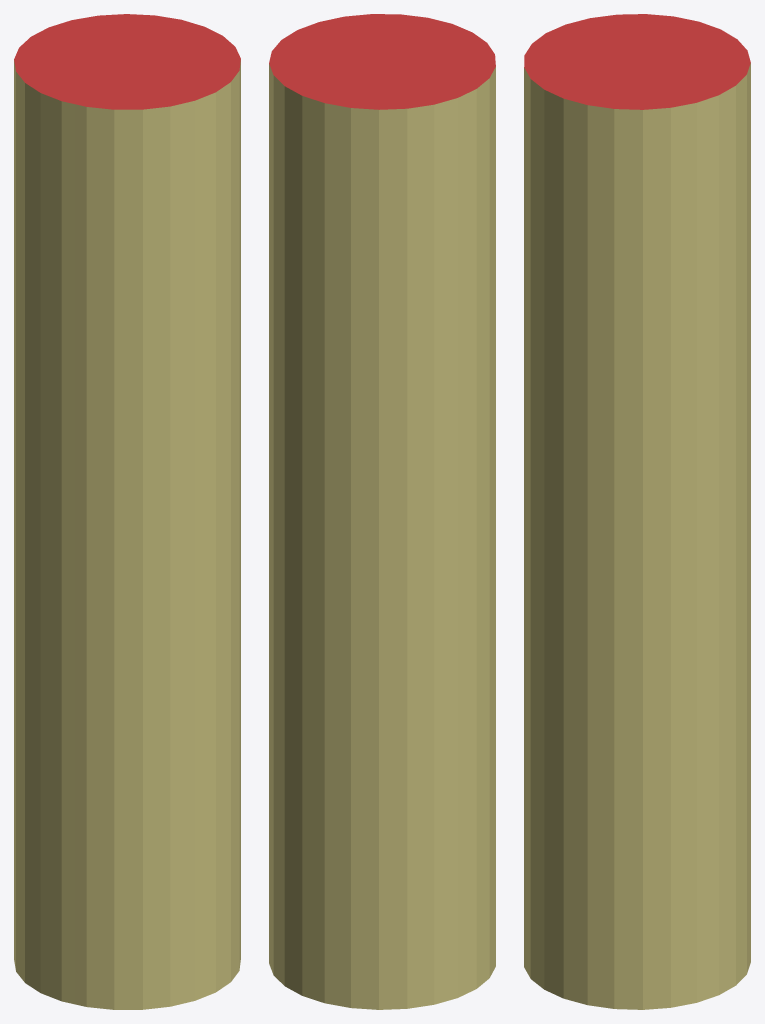
3 renders of one model, left to right at view 1: azimuth 30°, elevation 25°; view 2: azimuth 150°, elevation 25°; view 3: azimuth 270°, elevation 25°, orthographic.
Bounding box in the file's own units: 3.45 × 3.45 × 15.11.
